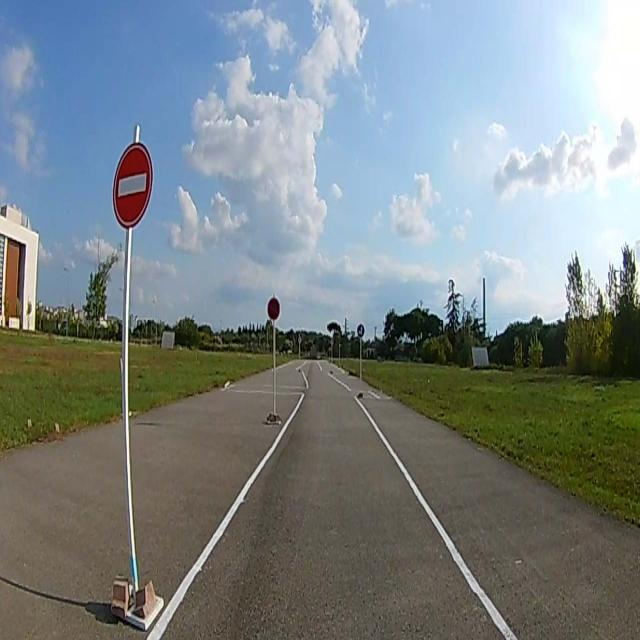girisyok: (114, 147, 152, 225)
